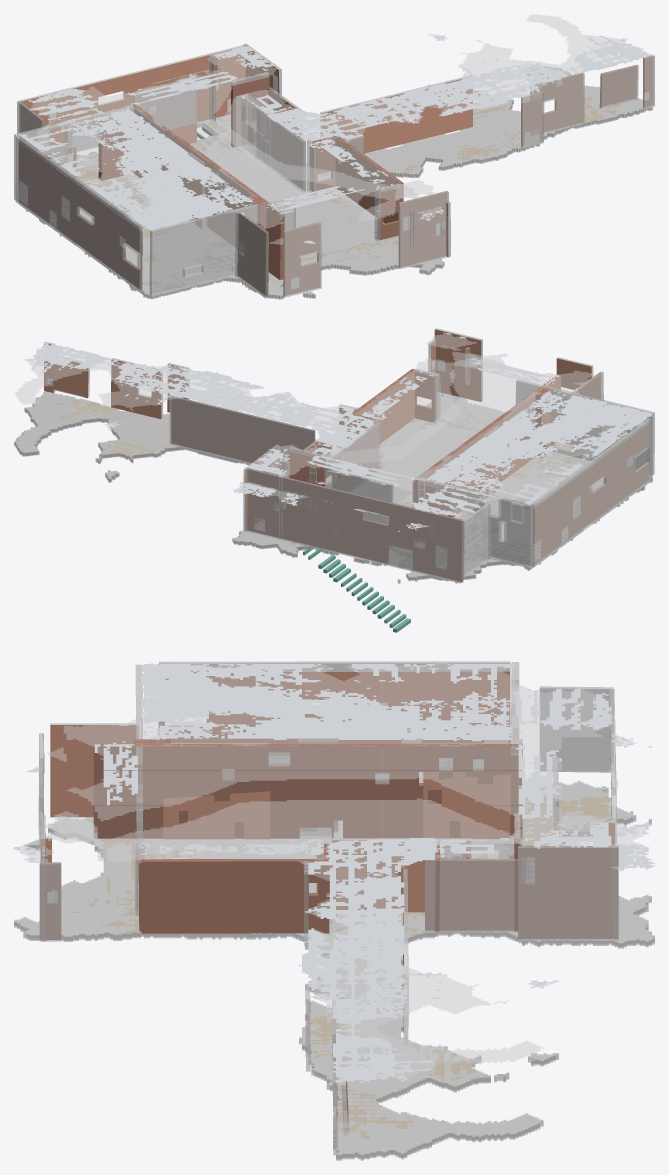
The model's file is modelo.glb.
The picture shows the model from 3 angles, top to bottom: view 1: azimuth 30°, elevation 25°; view 2: azimuth 150°, elevation 25°; view 3: azimuth 270°, elevation 25°; orthographic projection. The views are drawn at different scales.
Visible parts, largest first — view 1: CieloRaso_zona2_supuesto, Losa_cuerpo, Piso_supuesto, CieloRaso_zona1_supuesto, CieloRaso_zona2_medido, CieloRaso_zona1_medido, Muro_M05_0_cuerpo_supuesto, Muro_M08_0_cuerpo, Muro_M05_0_cara_medida, Muro_M13_0_cara_medida, Muro_M10_0_cara_medida, Piso_medido (+32 smaller); view 2: CieloRaso_zona2_supuesto, Losa_cuerpo, Muro_M13_0_cuerpo_supuesto, CieloRaso_zona2_medido, CieloRaso_zona1_supuesto, Piso_supuesto, Muro_M13_0_cara_medida, CieloRaso_zona1_medido, Muro_M05_0_cuerpo_supuesto, Muro_M10_0_cuerpo_supuesto, Muro_M05_0_cara_medida, Muro_M10_0_cara_medida (+20 smaller); view 3: CieloRaso_zona2_supuesto, CieloRaso_zona1_supuesto, Losa_cuerpo, Muro_M04_0_cuerpo, CieloRaso_zona2_medido, Piso_supuesto, CieloRaso_zona1_medido, Muro_M01_0_cuerpo, Muro_M05_0_cara_medida, Muro_M00_1_cuerpo_supuesto, Muro_M00_1_cara_medida, Piso_medido (+16 smaller).
Boxes of the visible parts, box(x1,y1,x2,y2) form: CieloRaso_zona2_supuesto: box(27, 50, 435, 228); Losa_cuerpo: box(19, 66, 652, 299); Piso_supuesto: box(71, 66, 643, 295); CieloRaso_zona1_supuesto: box(107, 14, 645, 244); CieloRaso_zona2_medido: box(18, 46, 431, 229); CieloRaso_zona1_medido: box(189, 33, 652, 244); Muro_M05_0_cuerpo_supuesto: box(15, 136, 142, 291); Muro_M08_0_cuerpo: box(149, 195, 295, 296); Muro_M05_0_cara_medida: box(19, 143, 142, 290); Muro_M13_0_cara_medida: box(20, 46, 247, 159); Muro_M10_0_cara_medida: box(322, 79, 472, 153); Piso_medido: box(26, 90, 619, 293); CieloRaso_zona2_supuesto: box(255, 332, 652, 516); Losa_cuerpo: box(14, 391, 652, 583); Muro_M13_0_cuerpo_supuesto: box(245, 468, 463, 583); CieloRaso_zona2_medido: box(248, 333, 652, 517); CieloRaso_zona1_supuesto: box(14, 345, 585, 528); Piso_supuesto: box(14, 391, 652, 579); Muro_M13_0_cara_medida: box(248, 468, 463, 581); CieloRaso_zona1_medido: box(25, 342, 479, 531); Muro_M05_0_cuerpo_supuesto: box(532, 418, 651, 566); Muro_M10_0_cuerpo_supuesto: box(169, 395, 315, 471); Muro_M05_0_cara_medida: box(533, 424, 648, 564); Muro_M10_0_cara_medida: box(171, 396, 315, 468); CieloRaso_zona2_supuesto: box(45, 661, 614, 847); CieloRaso_zona1_supuesto: box(17, 733, 651, 1081); Losa_cuerpo: box(14, 772, 654, 1160); Muro_M04_0_cuerpo: box(93, 744, 522, 838); CieloRaso_zona2_medido: box(48, 664, 611, 848); Piso_supuesto: box(14, 772, 654, 1154); CieloRaso_zona1_medido: box(14, 734, 654, 1082); Muro_M01_0_cuerpo: box(141, 859, 327, 933); Muro_M05_0_cara_medida: box(158, 671, 510, 743); Muro_M00_1_cuerpo_supuesto: box(518, 846, 618, 940); Muro_M00_1_cara_medida: box(518, 846, 618, 938); Piso_medido: box(69, 773, 611, 1139).
Size of the model in its own units: 12.71 by 2.89 by 8.58.
